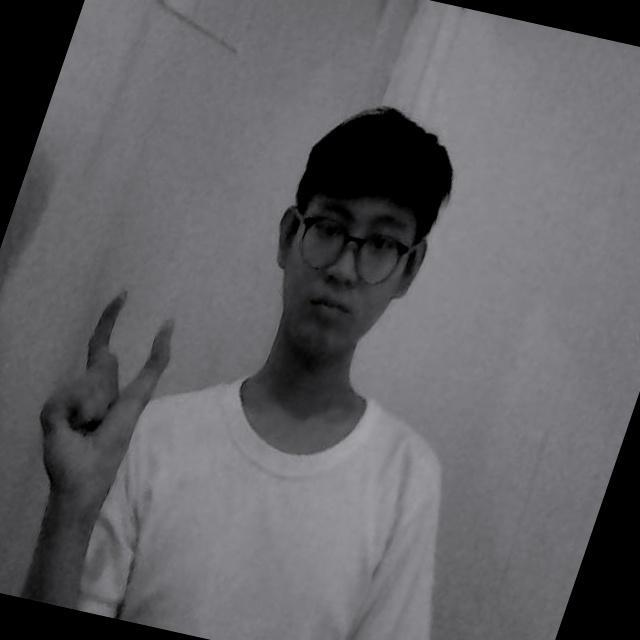U: (72, 280, 190, 424)
